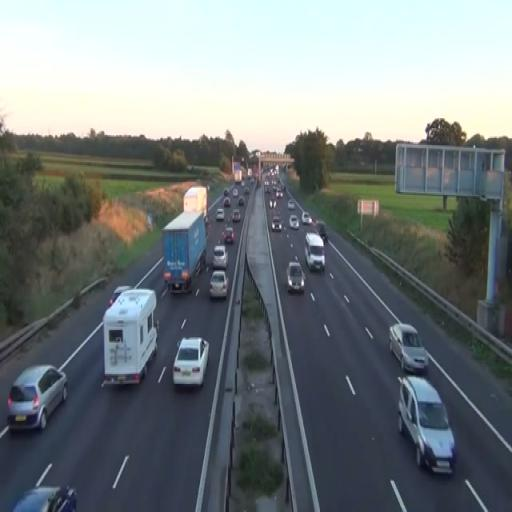Car: (397, 373, 457, 476), (7, 364, 68, 432), (388, 323, 430, 375), (172, 336, 210, 389), (11, 485, 78, 512), (304, 232, 326, 273), (286, 260, 306, 294), (208, 270, 230, 300), (212, 246, 229, 270), (222, 227, 235, 244), (216, 207, 225, 221), (232, 209, 240, 223)
Truck: (102, 287, 160, 387), (161, 210, 207, 295)
